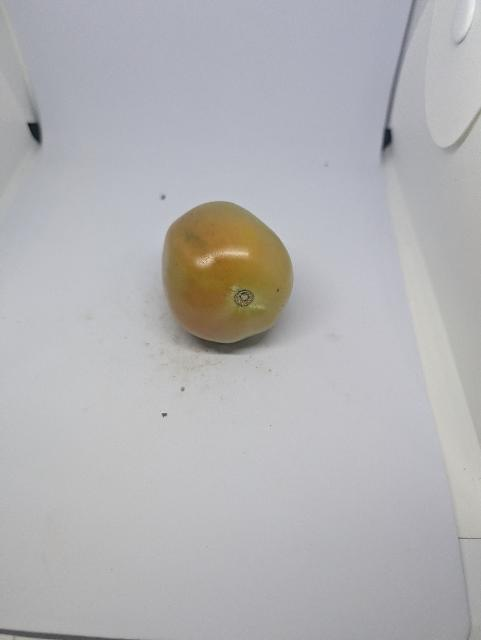breaker: (163, 201, 294, 343)
